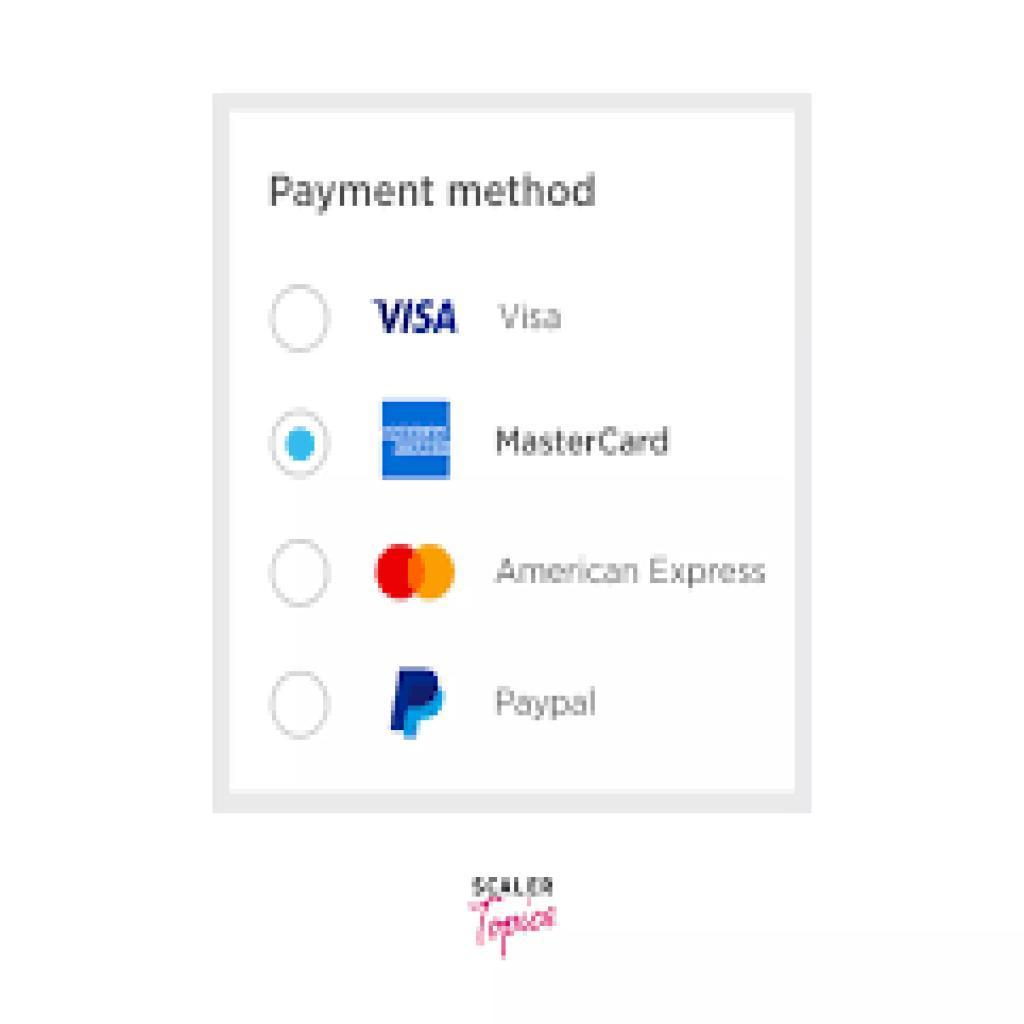radio: (260, 404, 340, 487), (268, 526, 339, 617), (260, 668, 338, 748), (266, 284, 334, 365)
